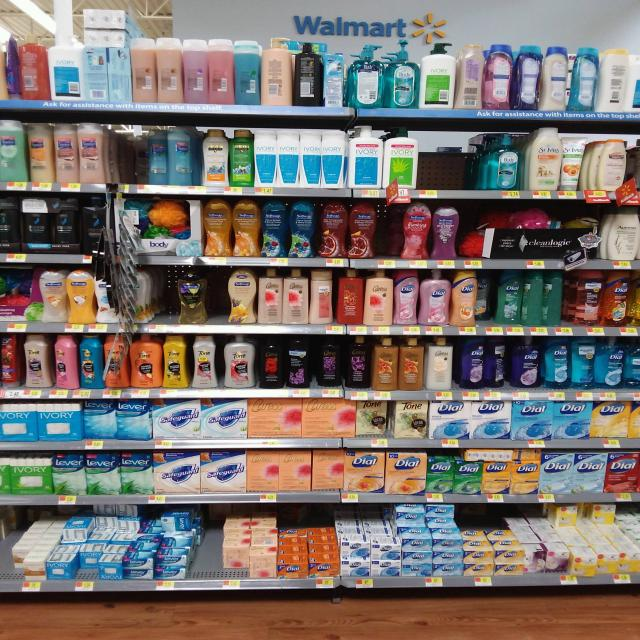empty: (103, 116, 157, 186), (420, 131, 486, 188), (191, 507, 226, 584), (142, 264, 180, 324), (206, 265, 237, 323)
